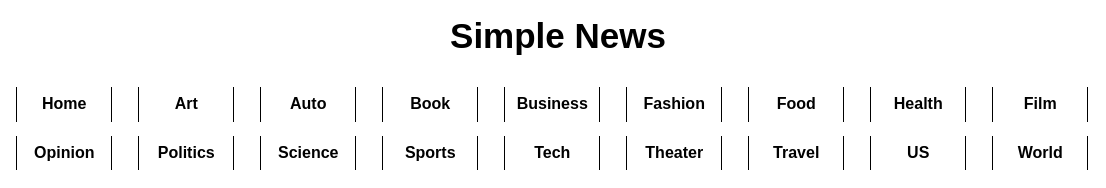
Test case: simple news tests › should be able to navigate between sections
Click the link with class "nav-btn" showing "World": x=1041, y=154 [992,136,1089,171]
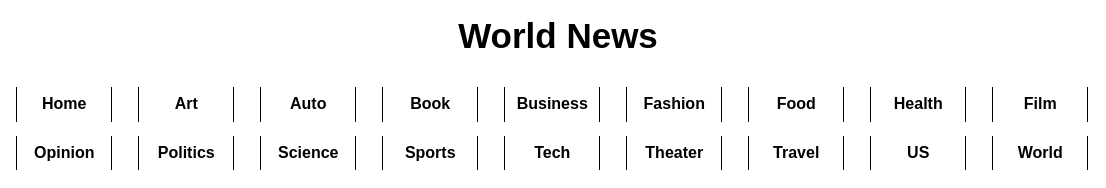
Check: the heading "World News" is shown, box [458,16,658,56]
